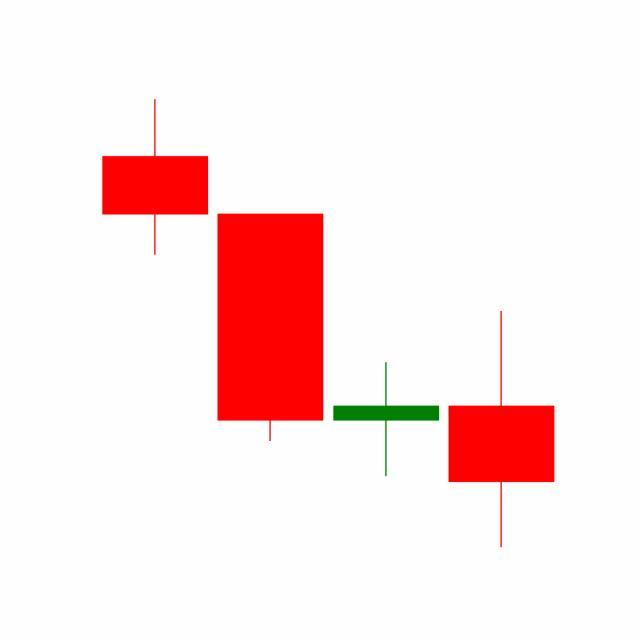Spinning Top: (329, 361, 445, 479)
